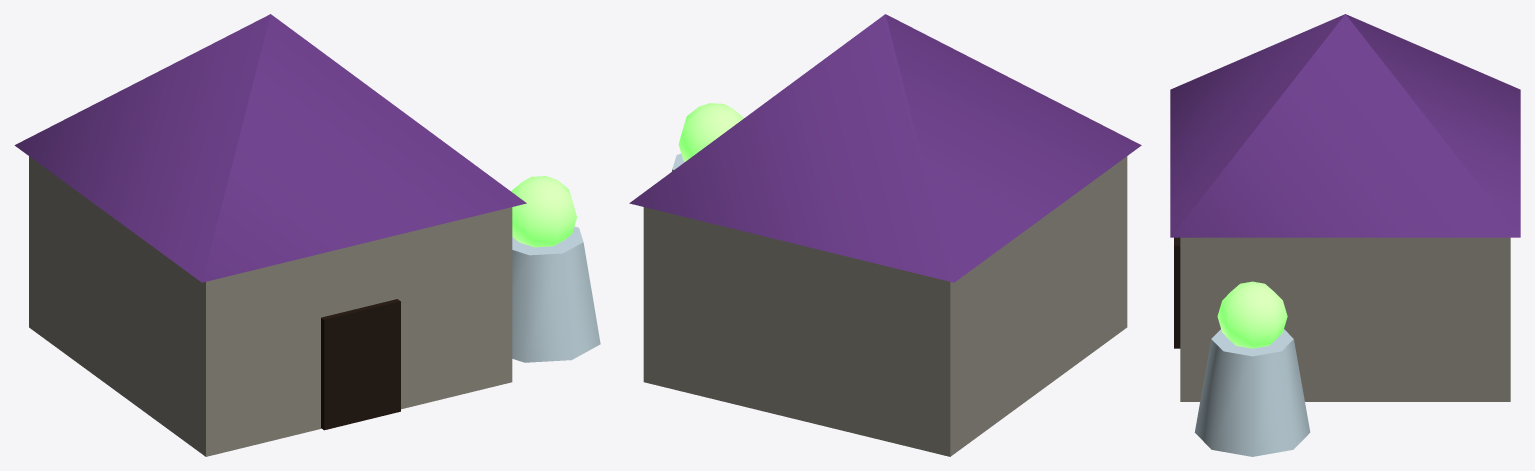
The model's file is level1.glb.
The picture shows the model from 3 angles, left to right: view 1: azimuth 30°, elevation 25°; view 2: azimuth 150°, elevation 25°; view 3: azimuth 270°, elevation 25°; orthographic projection. The views are drawn at different scales.
Bounding box in the file's own units: 2.28 × 1.7 × 1.7.
